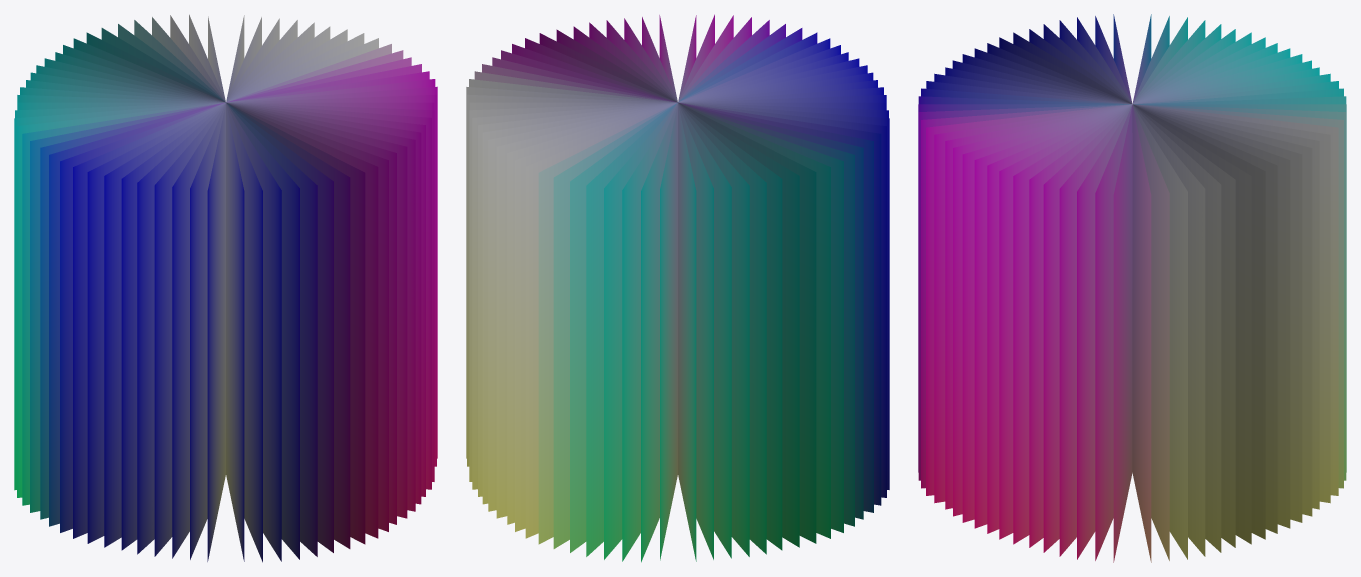
The model's file is Castle.fbx.
The picture shows the model from 3 angles, left to right: view 1: azimuth 30°, elevation 25°; view 2: azimuth 150°, elevation 25°; view 3: azimuth 270°, elevation 25°; orthographic projection.
Visible parts, largest first — view 1: Castle_Large_C_Impostor_72; view 2: Castle_Large_C_Impostor_72; view 3: Castle_Large_C_Impostor_72.
Boxes of the visible parts, <box> form: Castle_Large_C_Impostor_72: <box>14,14,437,562</box>; Castle_Large_C_Impostor_72: <box>466,14,889,562</box>; Castle_Large_C_Impostor_72: <box>918,14,1346,562</box>.
Size of the model in its own units: 8594 by 8183 by 8616.
